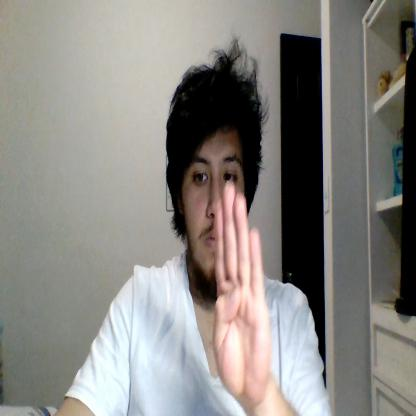B: (213, 180, 272, 400)
